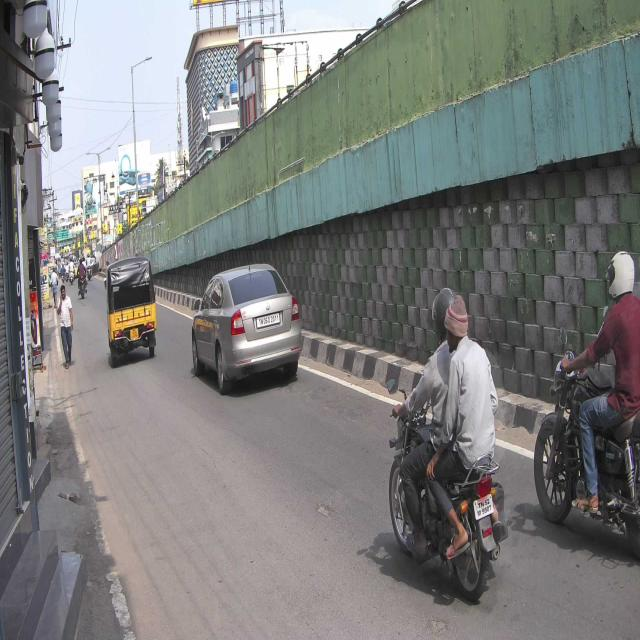double_rider: (391, 286, 511, 597)
single_rider: (534, 246, 640, 570)
